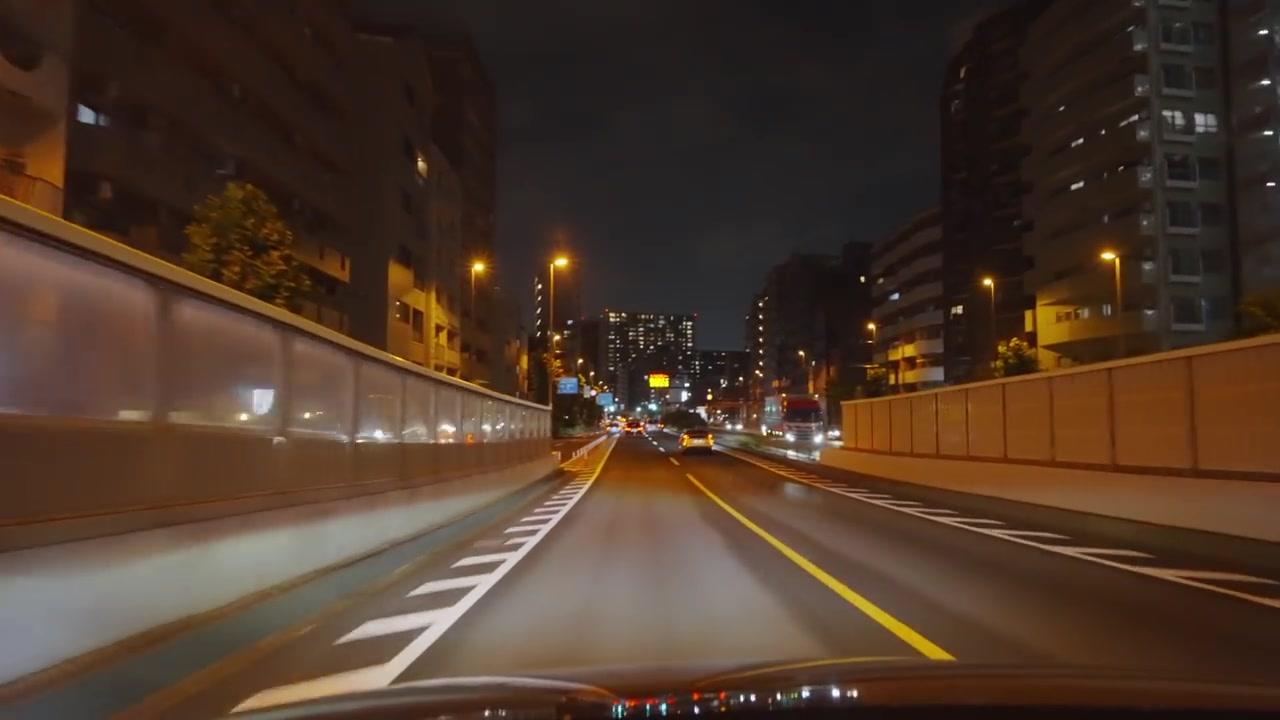car: (679, 428, 715, 452), (646, 428, 679, 451)
train: (3, 200, 553, 688)
